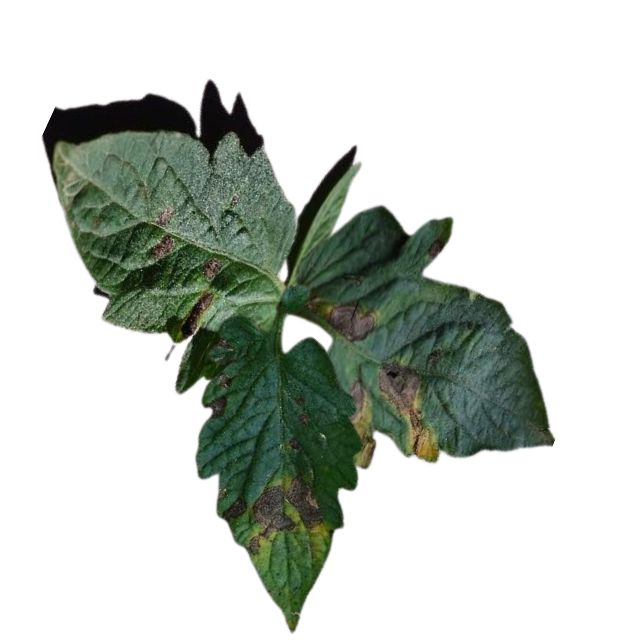Early_blight: (247, 475, 327, 555), (376, 362, 440, 462), (328, 306, 377, 342), (179, 292, 212, 333), (348, 380, 366, 426), (220, 495, 246, 524), (148, 234, 174, 260), (359, 432, 376, 469), (200, 257, 222, 280), (207, 393, 227, 418), (156, 204, 172, 227), (428, 239, 444, 258), (288, 435, 302, 451), (296, 412, 311, 426)
